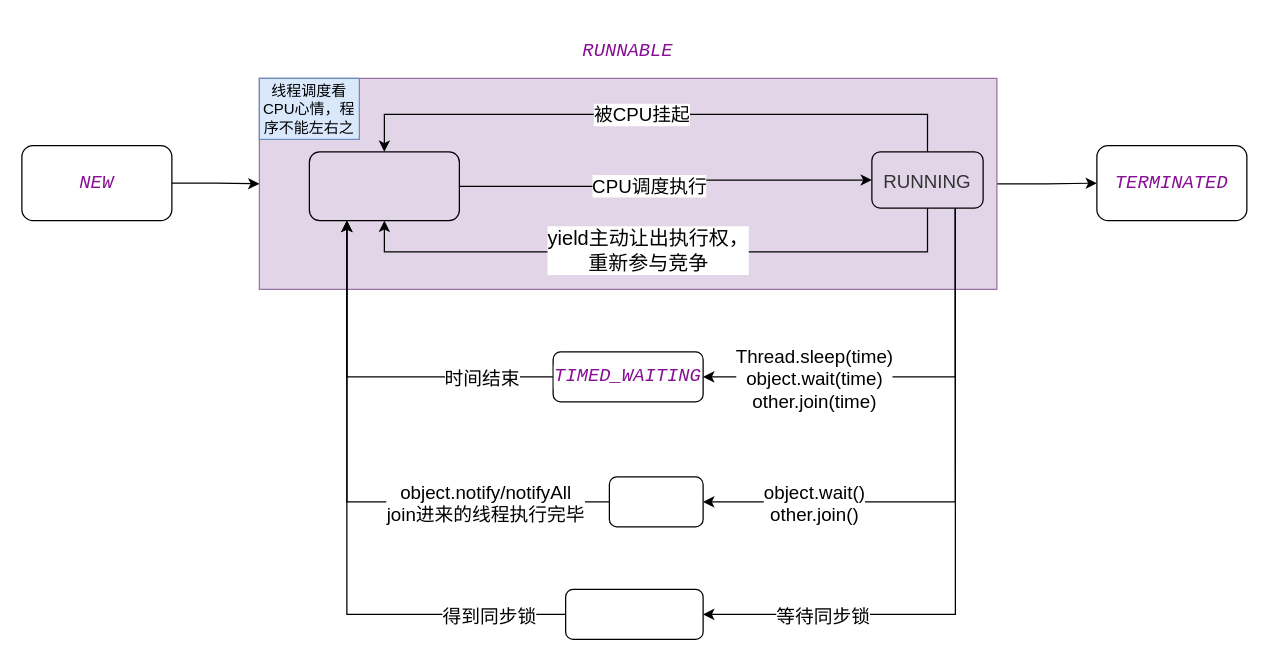
Image size: 1269x665. Some labels were removed from this diagram. The centre of each missing label's shape, as x and y in pixels:
"BLOCKED" belongs at pixel 633 613.
"READY 等待CPU调度" belongs at pixel 383 186.
"WAITING" belongs at pixel 655 501.
